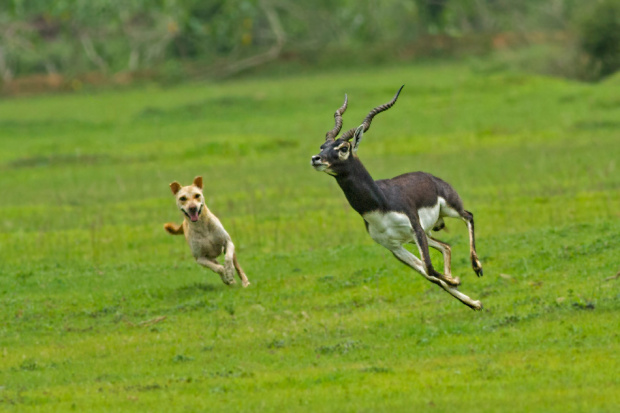Blackbuck: (310, 82, 483, 313)
dog: (163, 176, 249, 286)
